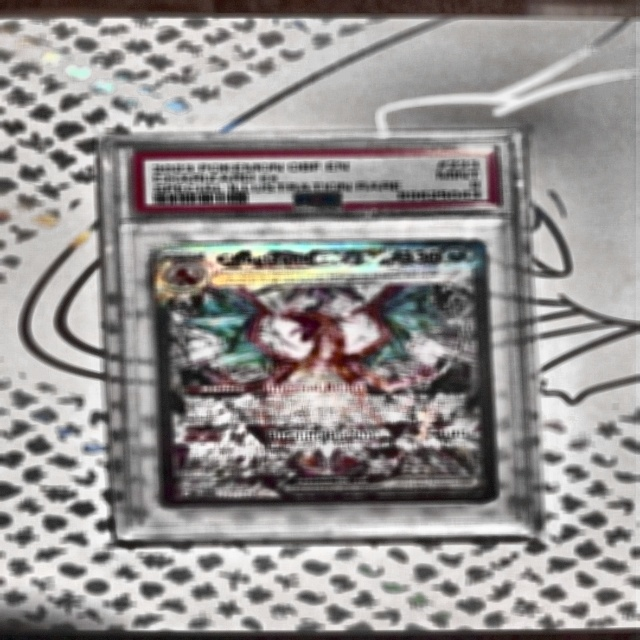card: (153, 241, 502, 510)
